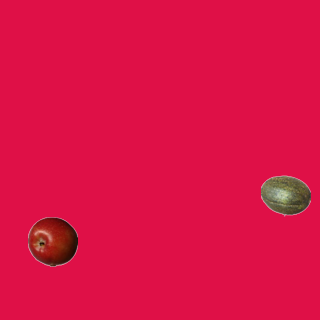Apple Braeburn: (27, 216, 77, 266)
Melon Piel de Sapo: (260, 170, 310, 220)
